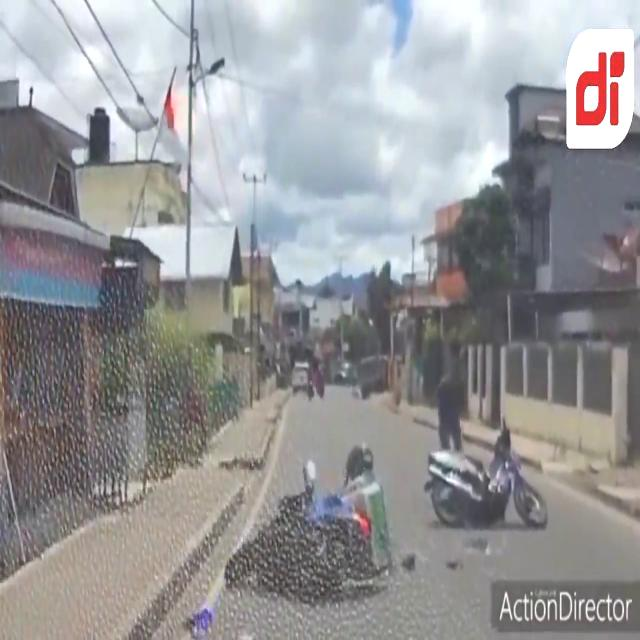accident: (228, 440, 552, 588), (230, 493, 374, 595), (429, 446, 547, 526)
